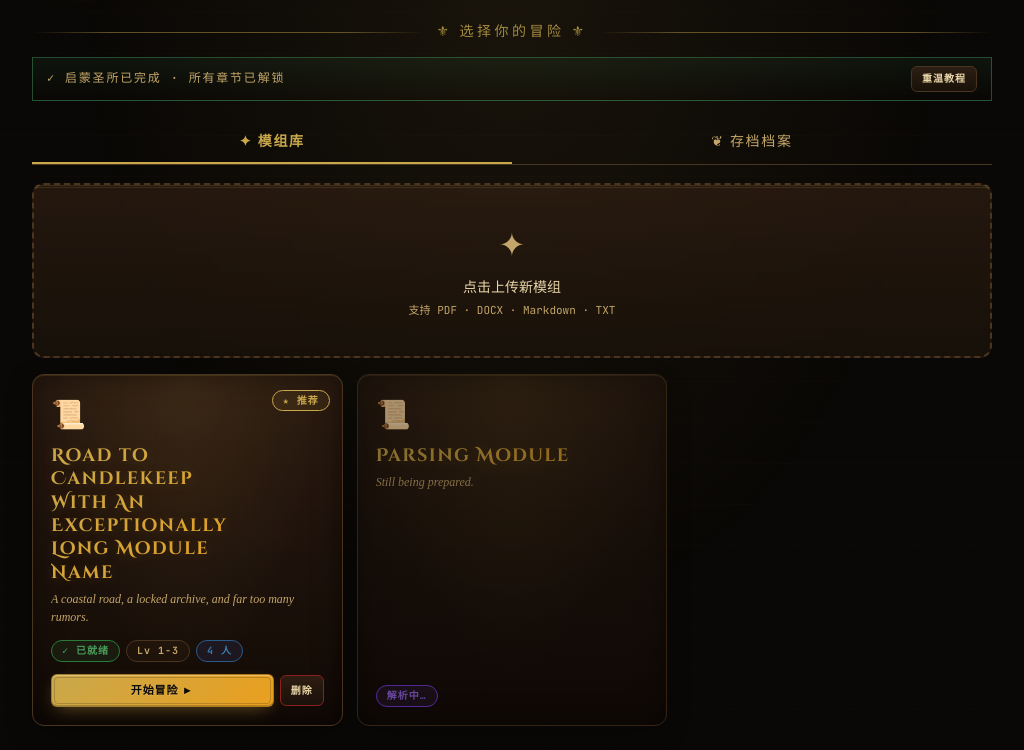
it: Home responsive shell › cancels module delete from the in-app confirmation dialog
The width and height of the screenshot is (1024, 750).
(page scrolled)
expect the text "Road to Candlekeep With An Exceptionally Long Module Name" is shown: met, box [51, 444, 324, 584]
Click the button with class "home-module-delete" at point(302, 690), box [280, 674, 324, 706]
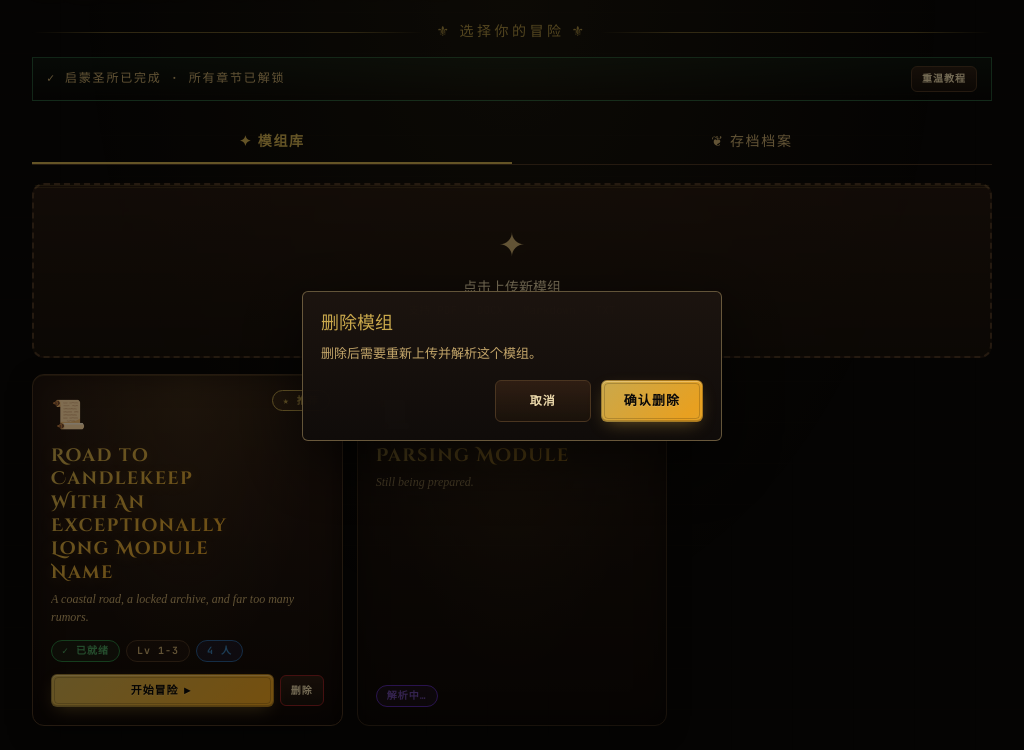
Click the button "取消" at point(543, 401), box [495, 380, 591, 422]
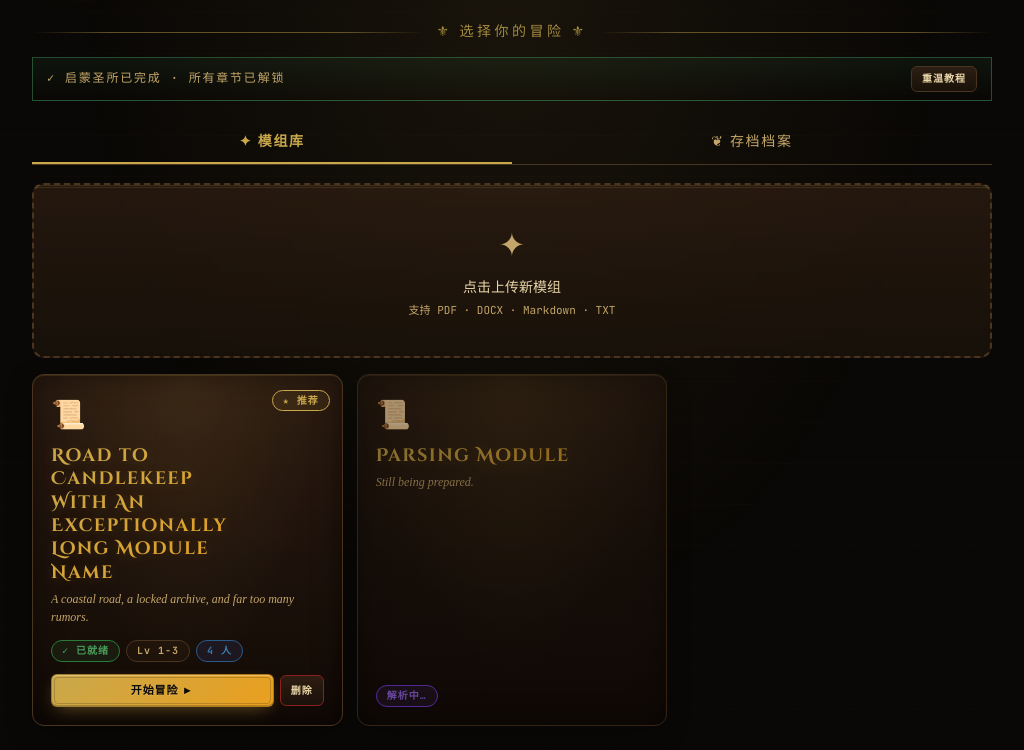
expect the heading "删除模组" is gone: met
